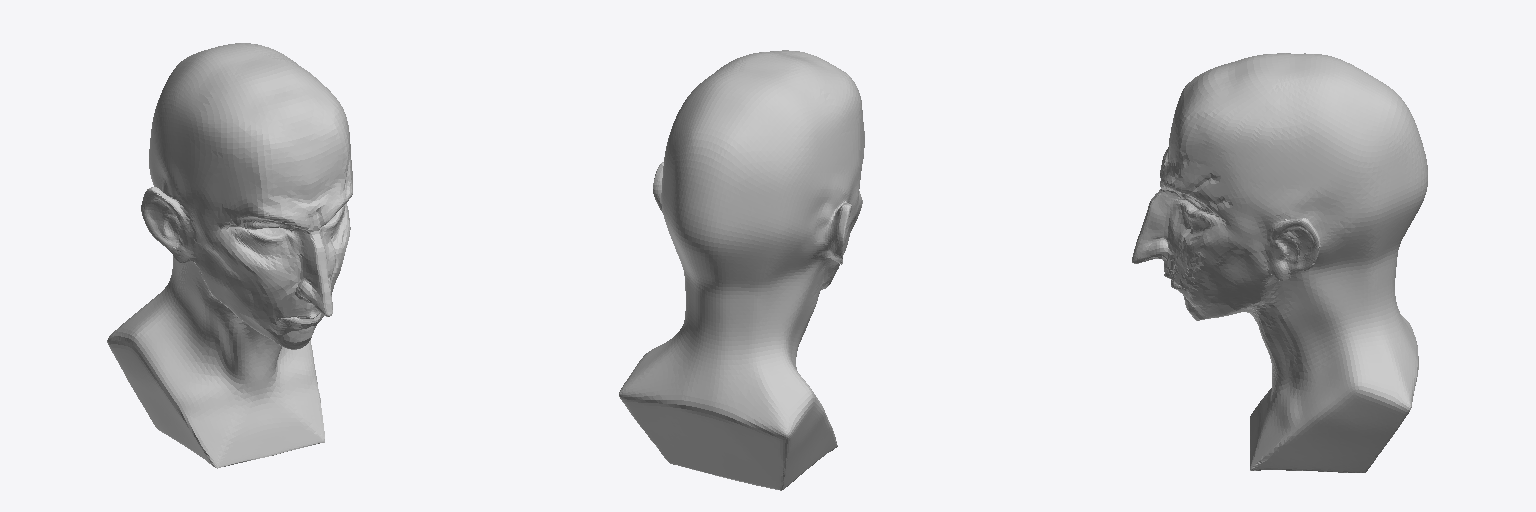
Rendered from SIL.obj.
The picture shows the model from 3 angles: view 1: azimuth 30°, elevation 25°; view 2: azimuth 150°, elevation 25°; view 3: azimuth 270°, elevation 25°; orthographic projection.
Visible parts, largest first — view 1: silc; view 2: silc; view 3: silc.
Boxes of the visible parts, box(x1,y1,x2,y2) form: silc: box(107, 43, 352, 468); silc: box(619, 50, 864, 490); silc: box(1132, 53, 1427, 472).
Bounding box in the file's own units: 2.54 × 4.86 × 3.41.